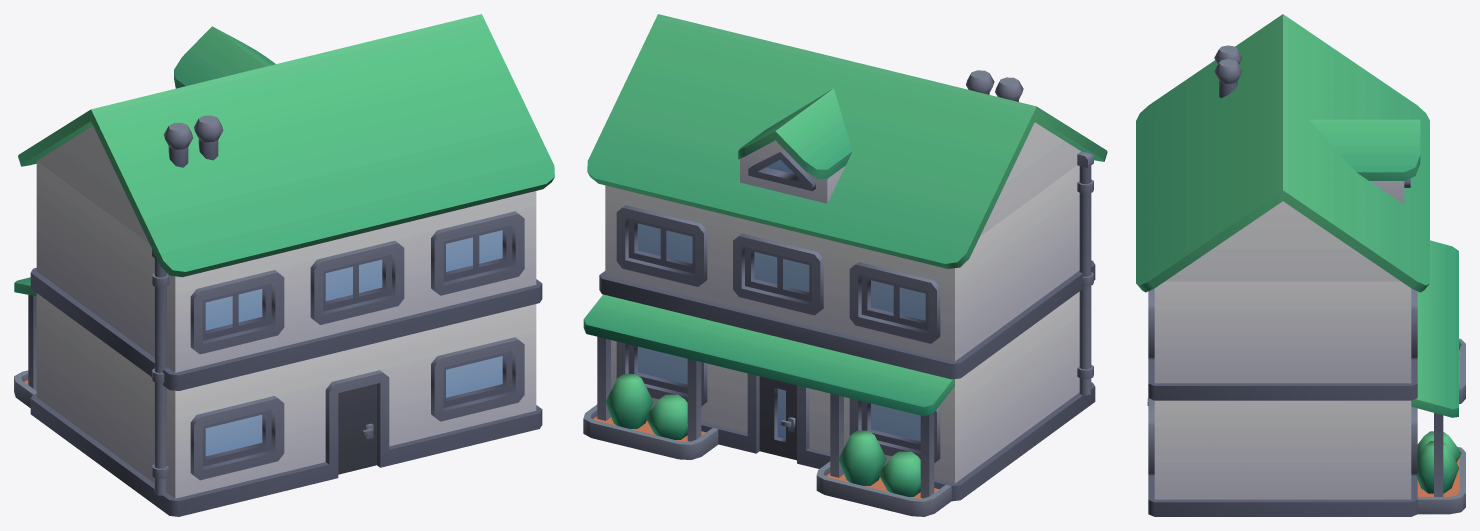
The model's file is house-e.glb.
3 renders of one model, left to right at view 1: azimuth 30°, elevation 25°; view 2: azimuth 150°, elevation 25°; view 3: azimuth 270°, elevation 25°, orthographic. The views are drawn at different scales.
Parts seen in each view (by area): view 1: building-type-e; view 2: building-type-e; view 3: building-type-e.
Boxes of the visible parts, bbox=[...] form: building-type-e: bbox=[14, 14, 554, 516]; building-type-e: bbox=[583, 14, 1107, 516]; building-type-e: bbox=[1136, 14, 1465, 516].
Size of the model in its own units: 1.3 by 1.14 by 1.03.
1 material, 1 textured.
